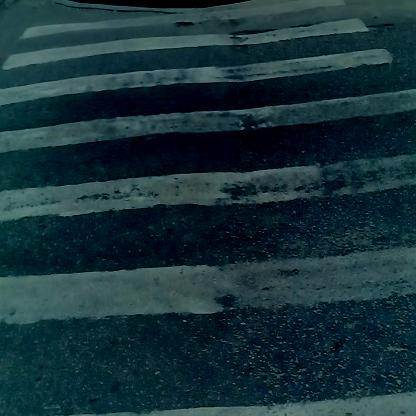crosswalk: (5, 20, 416, 410)
